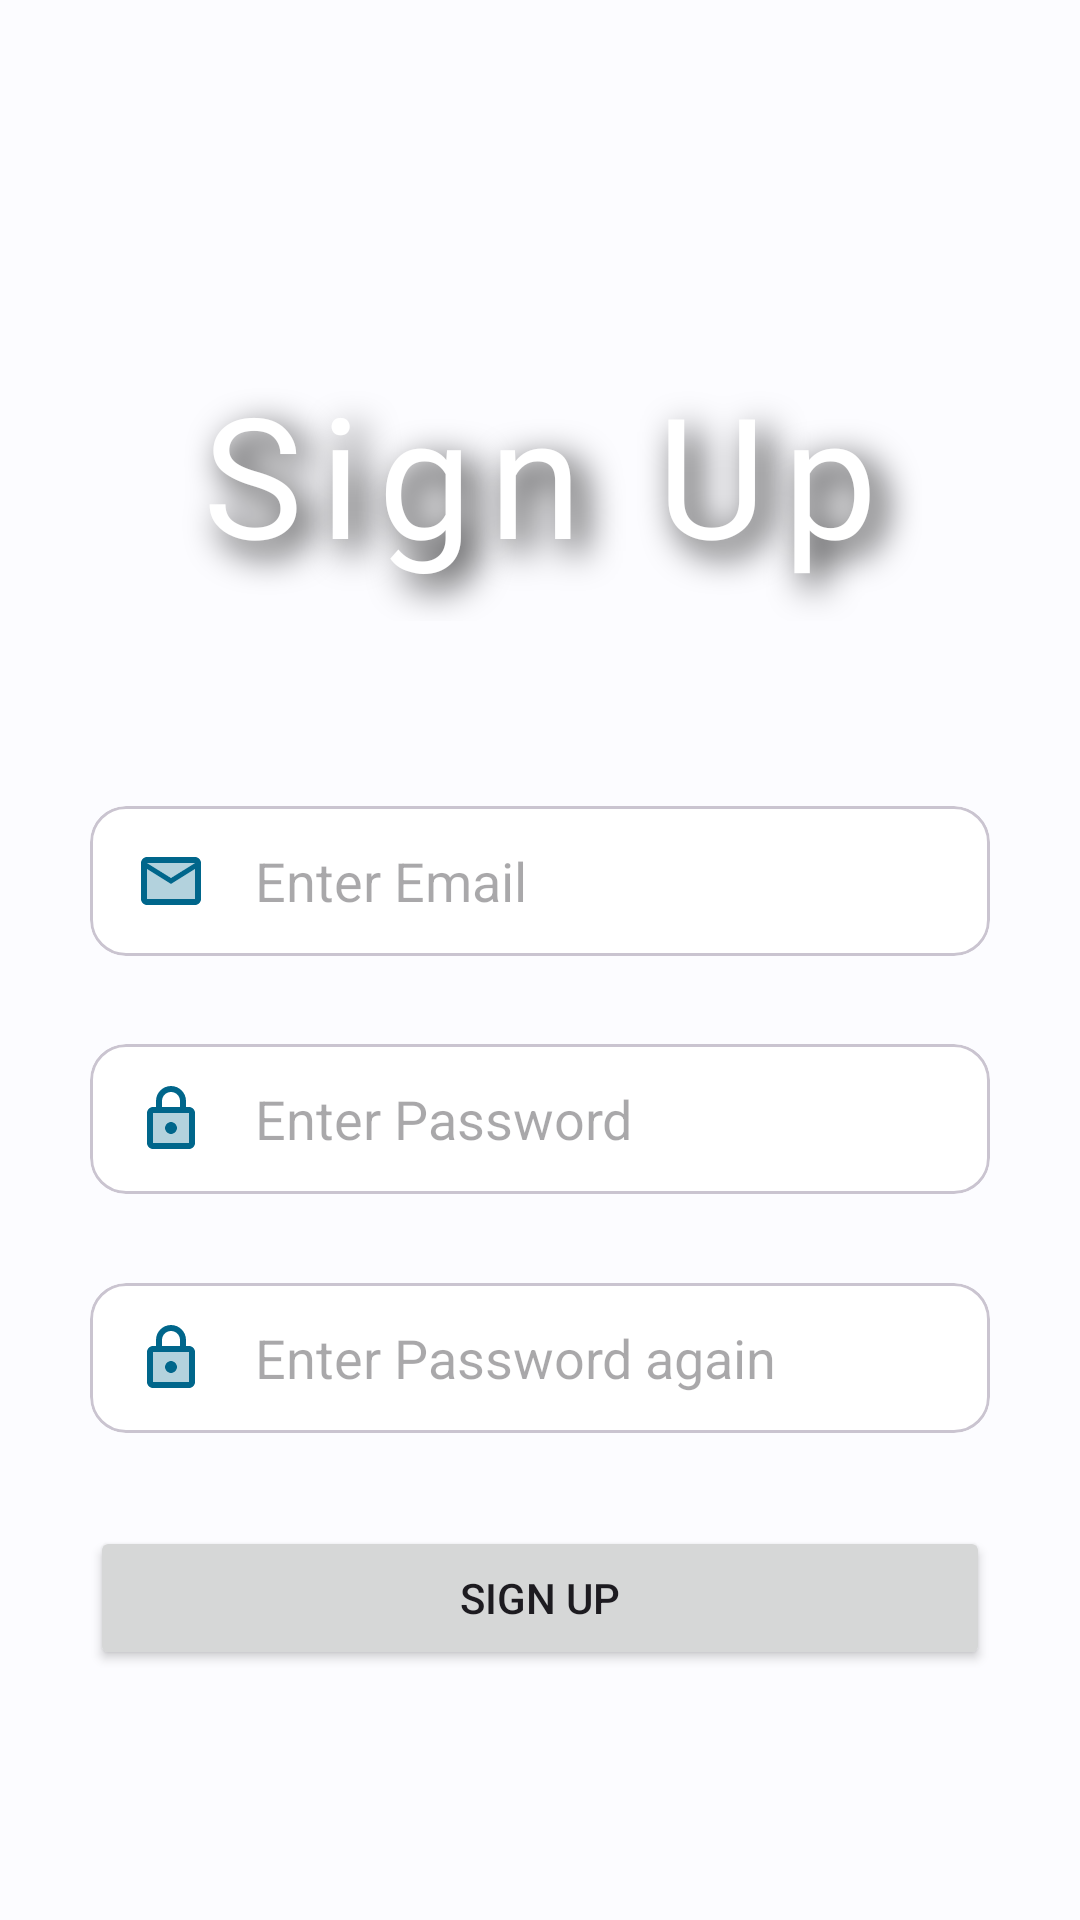

Screen size 1080 x 1920. Icon name, then its center in pixels as (x,y):
lock: (171,1117), (171,1356)
